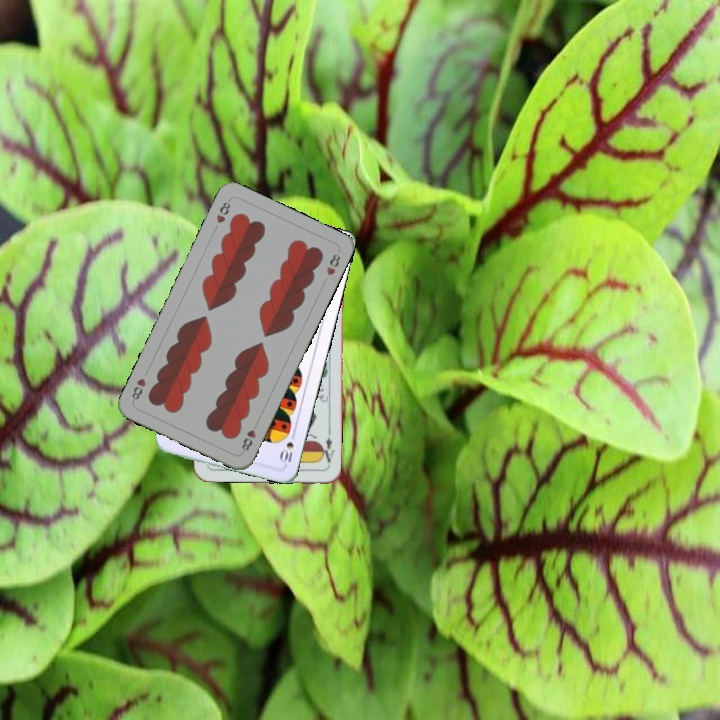EA: (317, 427, 336, 468)
H8: (237, 417, 261, 454), (212, 195, 233, 226)
S10: (276, 427, 298, 467)
